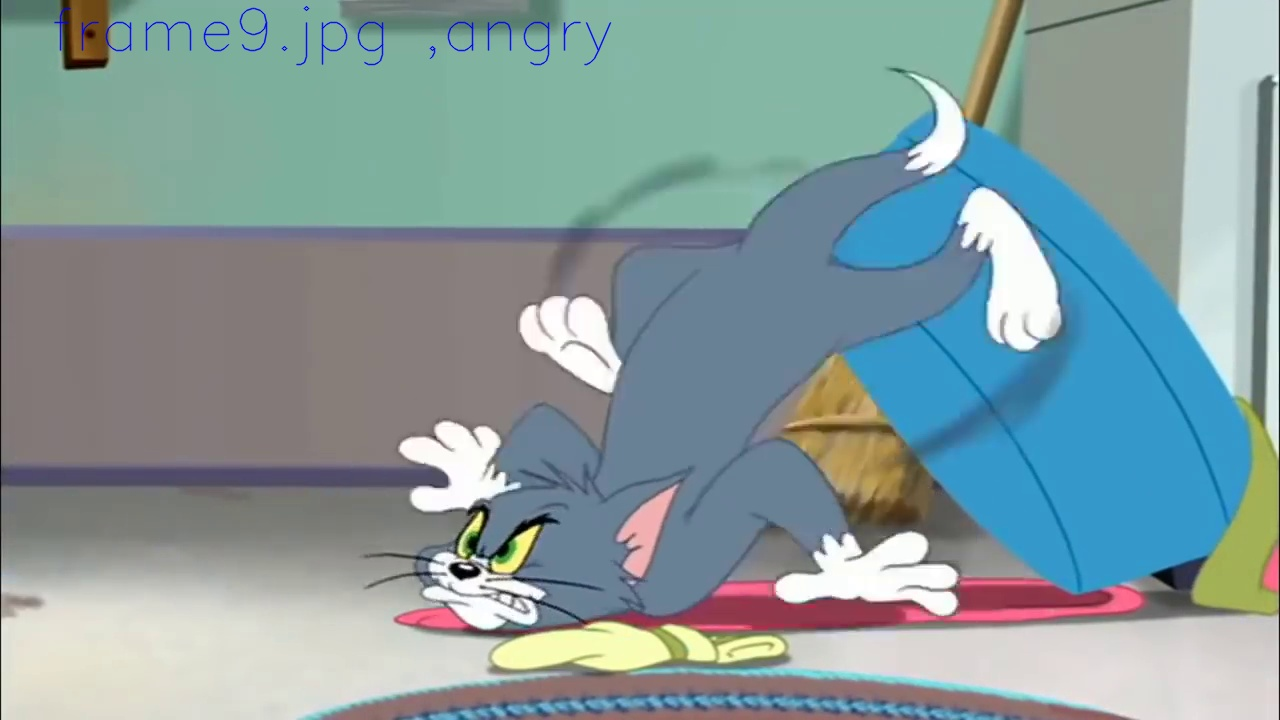angry: (418, 496, 570, 627)
